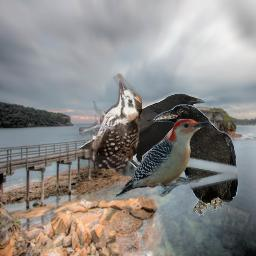Crow: (78, 92, 205, 176), (153, 104, 239, 216)
Woodpecker: (116, 119, 212, 197), (79, 73, 142, 169)
